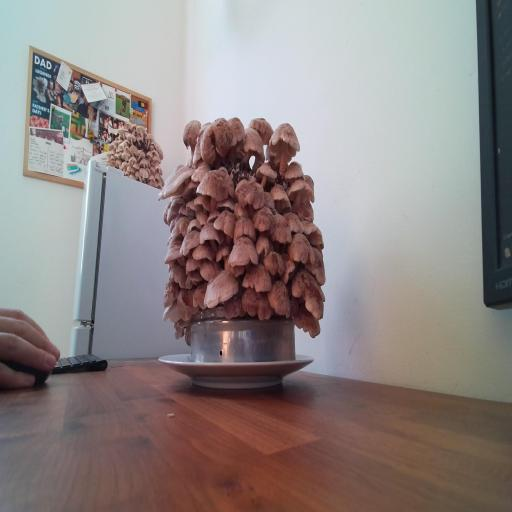Shiitake Mushroom: (253, 112, 312, 181), (183, 158, 248, 217), (280, 262, 340, 324), (192, 104, 240, 176), (151, 150, 200, 216), (193, 263, 248, 311), (229, 165, 272, 224), (295, 242, 341, 288), (261, 274, 300, 328), (286, 300, 330, 347), (234, 285, 281, 323), (190, 216, 234, 256), (240, 108, 282, 148), (292, 214, 334, 254), (265, 206, 296, 254), (284, 170, 317, 214), (248, 154, 284, 194), (171, 224, 208, 259), (173, 281, 202, 325), (278, 202, 309, 241), (266, 177, 294, 218), (154, 298, 188, 331), (156, 274, 184, 314), (246, 229, 278, 264), (287, 230, 318, 266), (178, 111, 204, 153), (227, 114, 248, 166), (229, 235, 259, 269), (242, 261, 272, 294), (240, 123, 265, 162), (186, 155, 215, 188), (222, 283, 247, 320), (251, 202, 277, 237), (219, 255, 250, 281), (179, 171, 202, 206), (167, 314, 196, 341), (161, 195, 186, 226), (179, 249, 208, 274), (280, 158, 307, 182), (263, 249, 286, 277), (167, 260, 189, 289), (229, 200, 255, 224), (233, 215, 256, 242), (164, 241, 186, 266), (280, 253, 296, 286), (211, 241, 235, 262), (191, 241, 216, 261), (199, 259, 220, 282), (182, 268, 206, 288), (170, 215, 190, 237), (191, 193, 214, 212), (192, 281, 207, 309), (296, 200, 314, 223), (195, 115, 214, 136), (184, 216, 204, 233), (185, 198, 201, 217), (192, 135, 202, 165), (161, 199, 172, 224), (217, 195, 235, 210), (263, 191, 276, 210), (195, 208, 208, 226), (290, 296, 299, 318), (178, 202, 189, 216)
